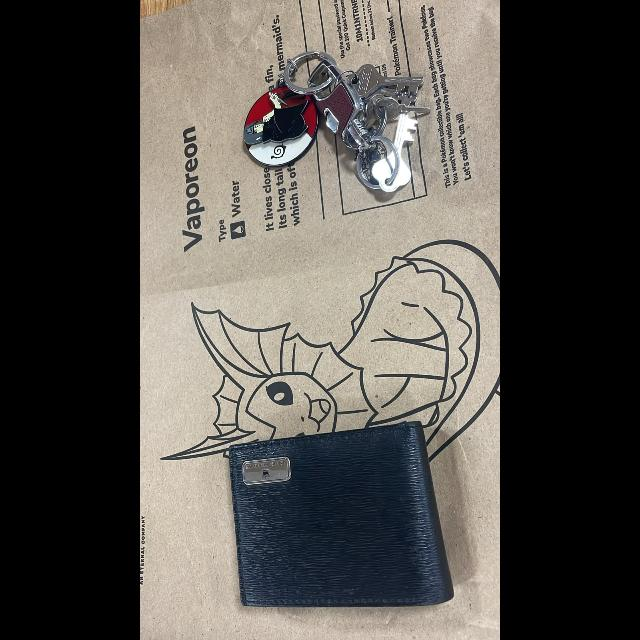keys: (220, 35, 440, 227)
wallet: (216, 404, 464, 632)
